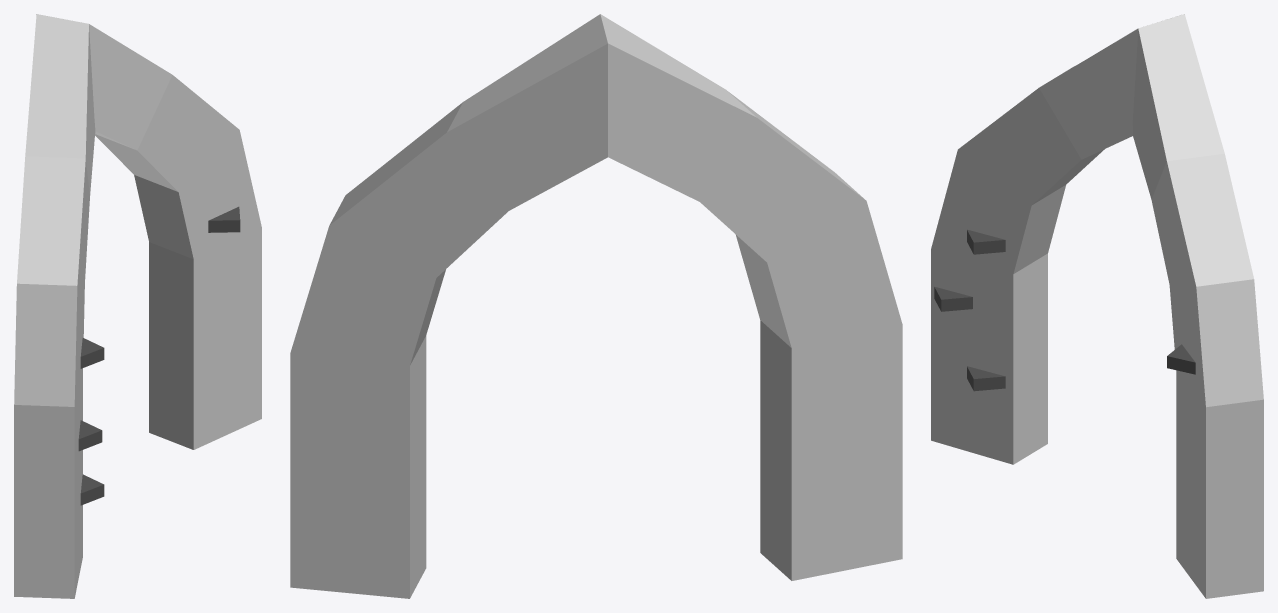
Rendered from STONE ARK 2.fbx.
The picture shows the model from 3 angles, left to right: view 1: azimuth 30°, elevation 25°; view 2: azimuth 150°, elevation 25°; view 3: azimuth 270°, elevation 25°; orthographic projection. The views are drawn at different scales.
Visible parts, largest first — view 1: STONE_ARK_2; view 2: STONE_ARK_2; view 3: STONE_ARK_2.
Part boxes in pixels (bbox=[...]): STONE_ARK_2: bbox=[14, 14, 261, 598]; STONE_ARK_2: bbox=[290, 14, 902, 598]; STONE_ARK_2: bbox=[931, 14, 1263, 598].
Size of the model in its own units: 350 by 427 by 274.
Materials: 1 (1 with a texture image).
